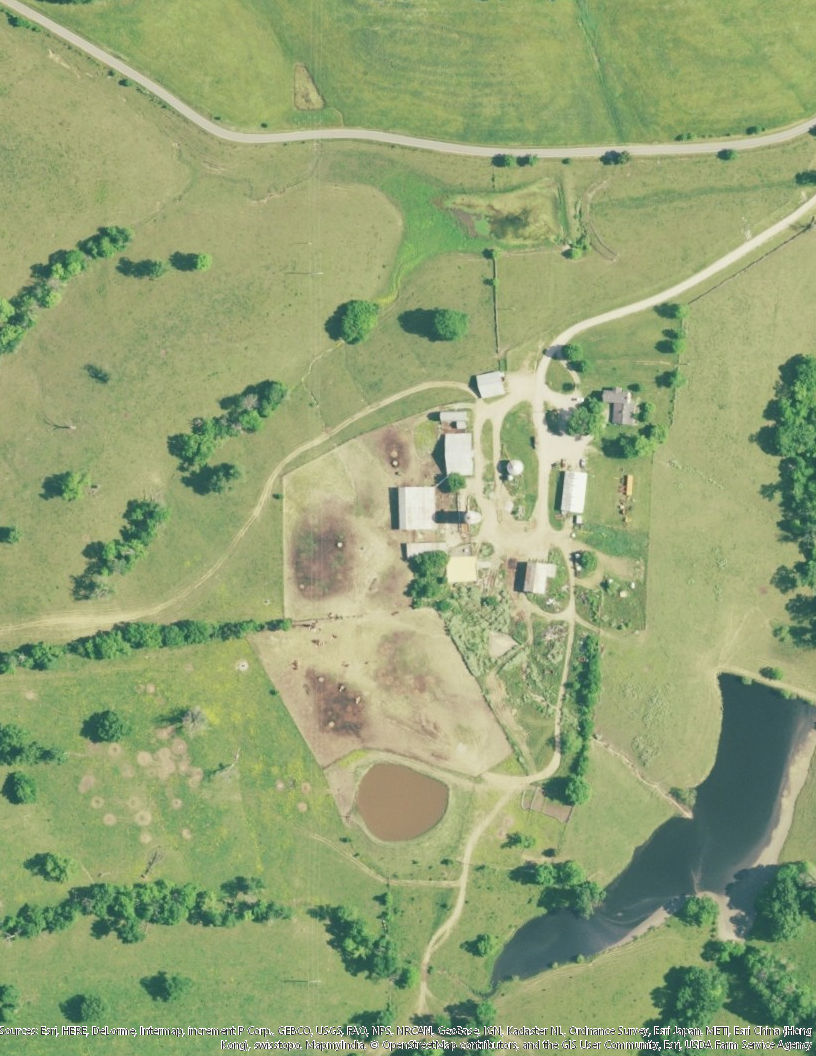cafo: (395, 486, 438, 533), (558, 470, 590, 515), (444, 432, 475, 476), (476, 371, 506, 399)
